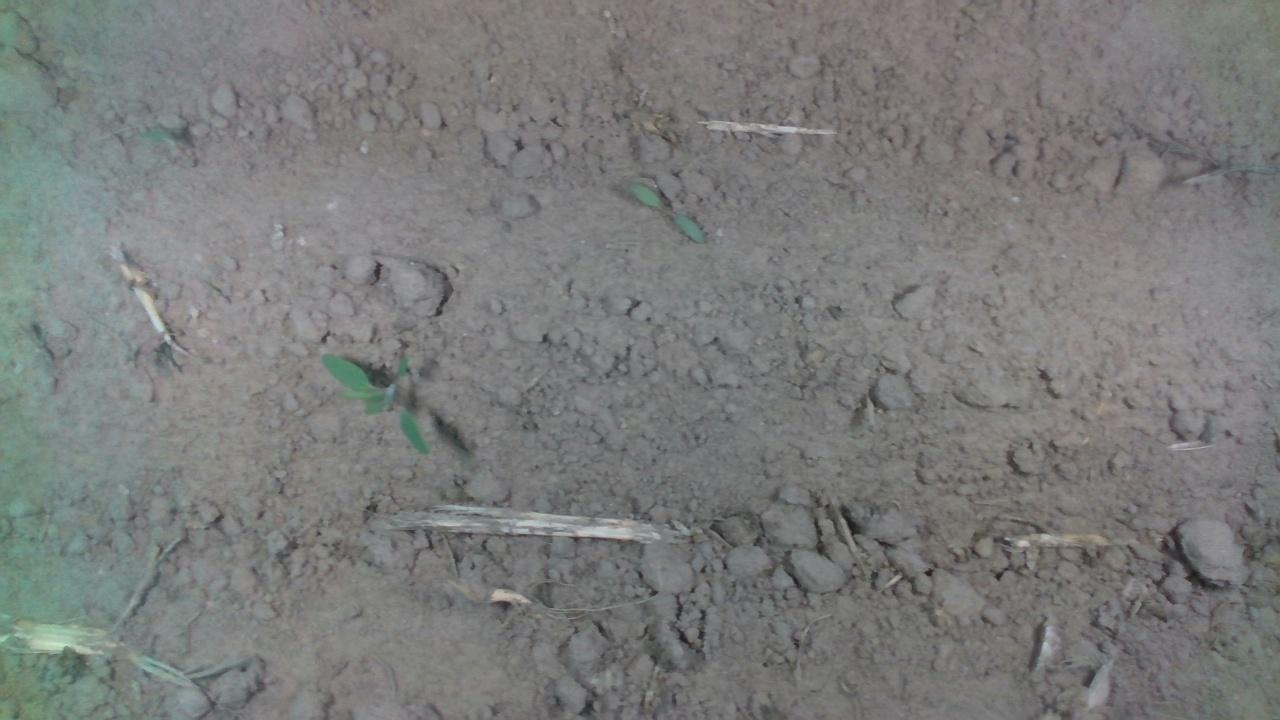weed: (319, 351, 429, 456), (627, 181, 706, 245)
